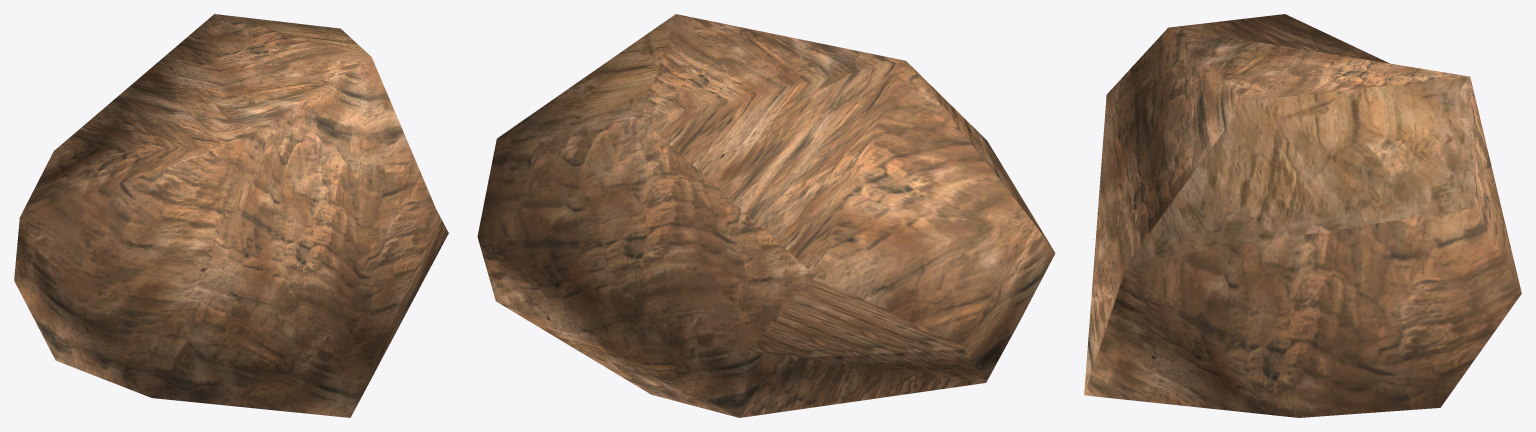
File: rock_tatt_bensmesa_boulder_a5_l2.fbx
3 views of the same model, side by side, from view 1: azimuth 30°, elevation 25°; view 2: azimuth 150°, elevation 25°; view 3: azimuth 270°, elevation 25° (orthographic). The views are drawn at different scales.
Parts seen in each view (by area): view 1: mesh_node; view 2: mesh_node; view 3: mesh_node.
Part boxes in pixels (box(x1,y1,x2,y2)): mesh_node: box(14, 14, 448, 417); mesh_node: box(477, 14, 1055, 417); mesh_node: box(1084, 14, 1521, 417).
Size of the model in its own units: 3.7 by 2.35 by 2.7.
